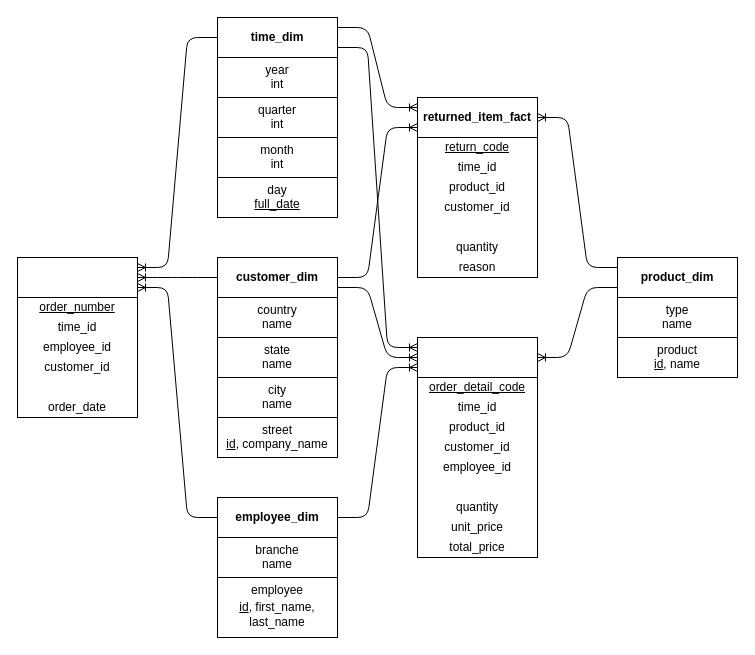
The diagram is 755 pixels wide and 655 high, and some of its shapes have lost their labels. The shapes that lost their labels are listed below. From the top down, each one's centre as x and y in pixels, then its label:
the point at 77,277: order_header_fact
the point at 477,357: order_details_fact
